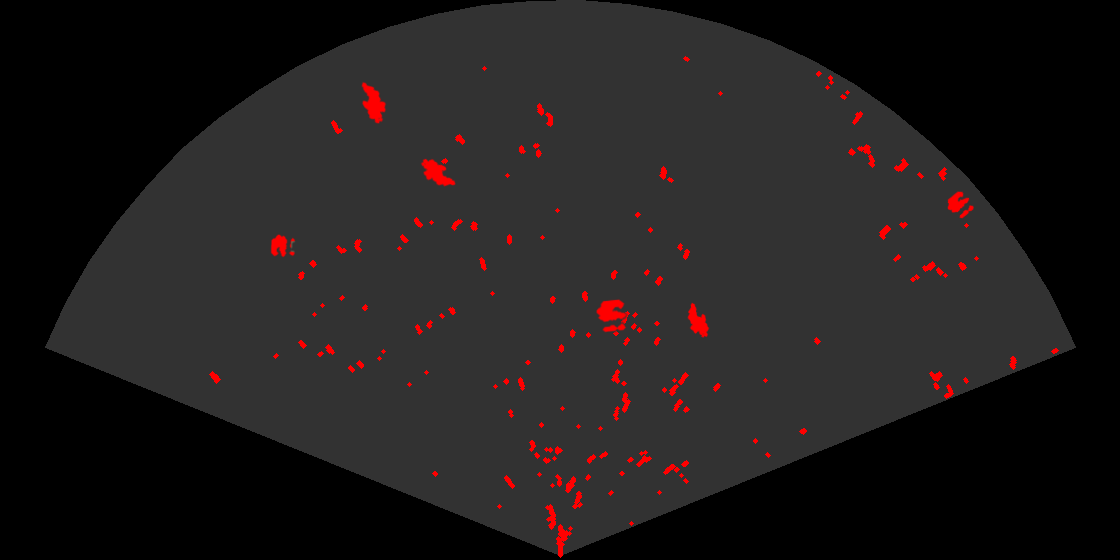AUV: (360, 80, 388, 125), (419, 157, 457, 188), (686, 301, 711, 339)
ball: (595, 298, 628, 334), (946, 190, 975, 220), (269, 233, 297, 259)
